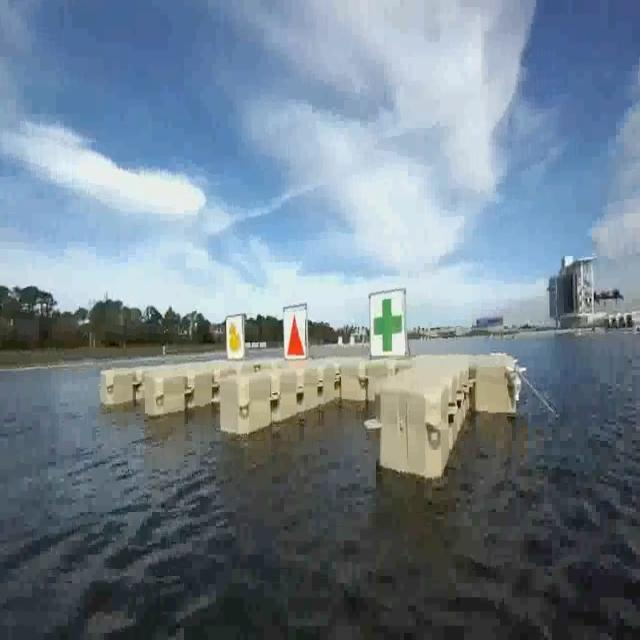blue-cross: (371, 292, 407, 356)
red-dot: (283, 306, 308, 361)
yellow-duck: (224, 315, 246, 361)
